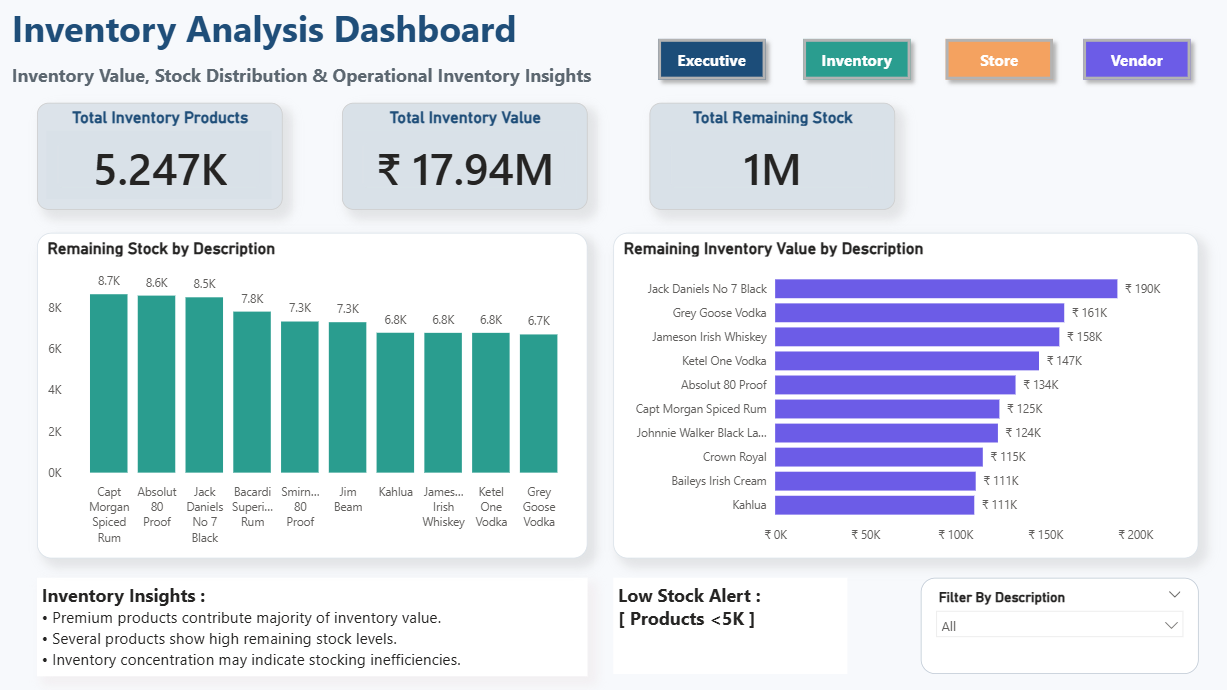

This screenshot's page, from the dashboard's own definition file:
{"tool":"powerbi","page":{"name":"Inventory Analysis","canvas":[1280,720],"ordinal":1},"visuals":[{"type":"textbox","box":[9.8,0,551.5,61.1],"z":0},{"type":"textbox","box":[10.4,60.7,629.3,46.8],"z":1000},{"type":"cardVisual","title":"Total Inventory Products","fields":{"Data":["Count(inventory_summary.Description)"]},"box":[41.6,107.5,254.8,110.9],"z":2000},{"type":"cardVisual","title":"Total Remaining Stock","fields":{"Data":["Sum(inventory_summary.Remaining_Stock)"]},"box":[677.8,107.5,254.8,110.9],"z":3000},{"type":"barChart","title":"Remaining Inventory Value by Description","fields":{"Category":["inventory_summary.Description"],"Y":["Sum(inventory_summary.Remaining_Inventory_Value)"]},"box":[639.7,242.7,608,338],"z":4000},{"type":"textbox","box":[41.6,601.5,572.1,102.3],"z":5000},{"type":"clusteredColumnChart","title":"Remaining Stock by Description","fields":{"Category":["inventory_summary.Description"],"Y":["Sum(inventory_summary.Remaining_Stock)"]},"box":[41.6,242.7,572.1,338],"z":6000},{"type":"slicer","fields":{"Values":["inventory_summary.Description"]},"box":[959.9,601.6,288.6,100.3],"z":7000},{"type":"cardVisual","title":"Total Inventory Value","fields":{"Data":["Sum(inventory_summary.Remaining_Inventory_Value)"]},"box":[358.8,107.5,254.8,110.9],"z":8000},{"type":"textbox","box":[640.8,601.6,243.3,100.3],"z":9000},{"type":"actionButton","box":[678.2,32.1,129.5,60.3],"z":10000},{"type":"actionButton","box":[828.2,32.1,129.5,60.3],"z":11000},{"type":"actionButton","box":[1119.2,32.1,129.5,60.3],"z":12000},{"type":"actionButton","box":[976.9,32.1,129.5,60.3],"z":13000}]}

Visuals, with their boxes in screenshot pixels (x1, y1, x2, y2), scaled from the page's 1280x720 canvas onto the 1227x690 screenshot:
textbox: locate(9, 0, 538, 59)
textbox: locate(10, 58, 613, 103)
"Total Inventory Products" cardVisual: locate(40, 103, 284, 209)
"Total Remaining Stock" cardVisual: locate(650, 103, 894, 209)
"Remaining Inventory Value by Description" barChart: locate(613, 233, 1196, 557)
textbox: locate(40, 576, 588, 674)
"Remaining Stock by Description" clusteredColumnChart: locate(40, 233, 588, 557)
slicer - inventory_summary.Description: locate(920, 577, 1197, 673)
"Total Inventory Value" cardVisual: locate(344, 103, 588, 209)
textbox: locate(614, 577, 847, 673)
actionButton: locate(650, 31, 774, 89)
actionButton: locate(794, 31, 918, 89)
actionButton: locate(1073, 31, 1197, 89)
actionButton: locate(936, 31, 1061, 89)
